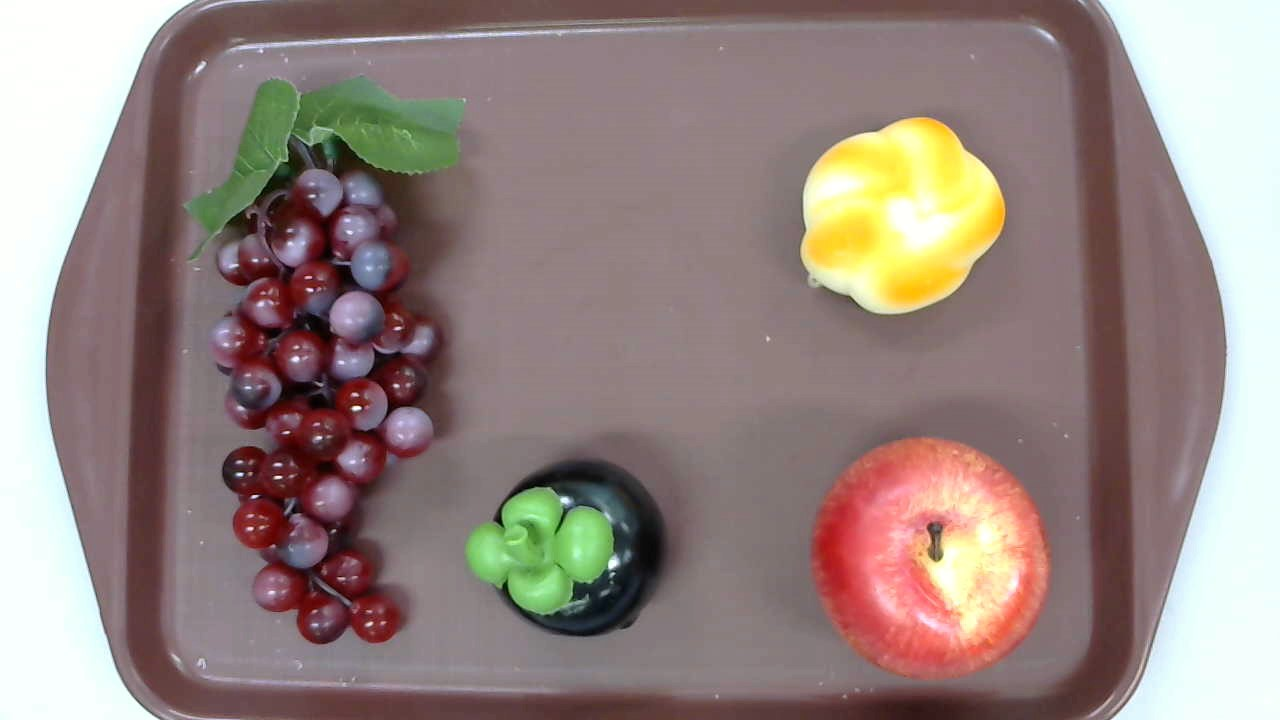grape: (182, 74, 466, 643)
mangosteen: (465, 459, 667, 637)
red apple: (810, 436, 1052, 684)
twist bread: (799, 116, 1007, 315)
